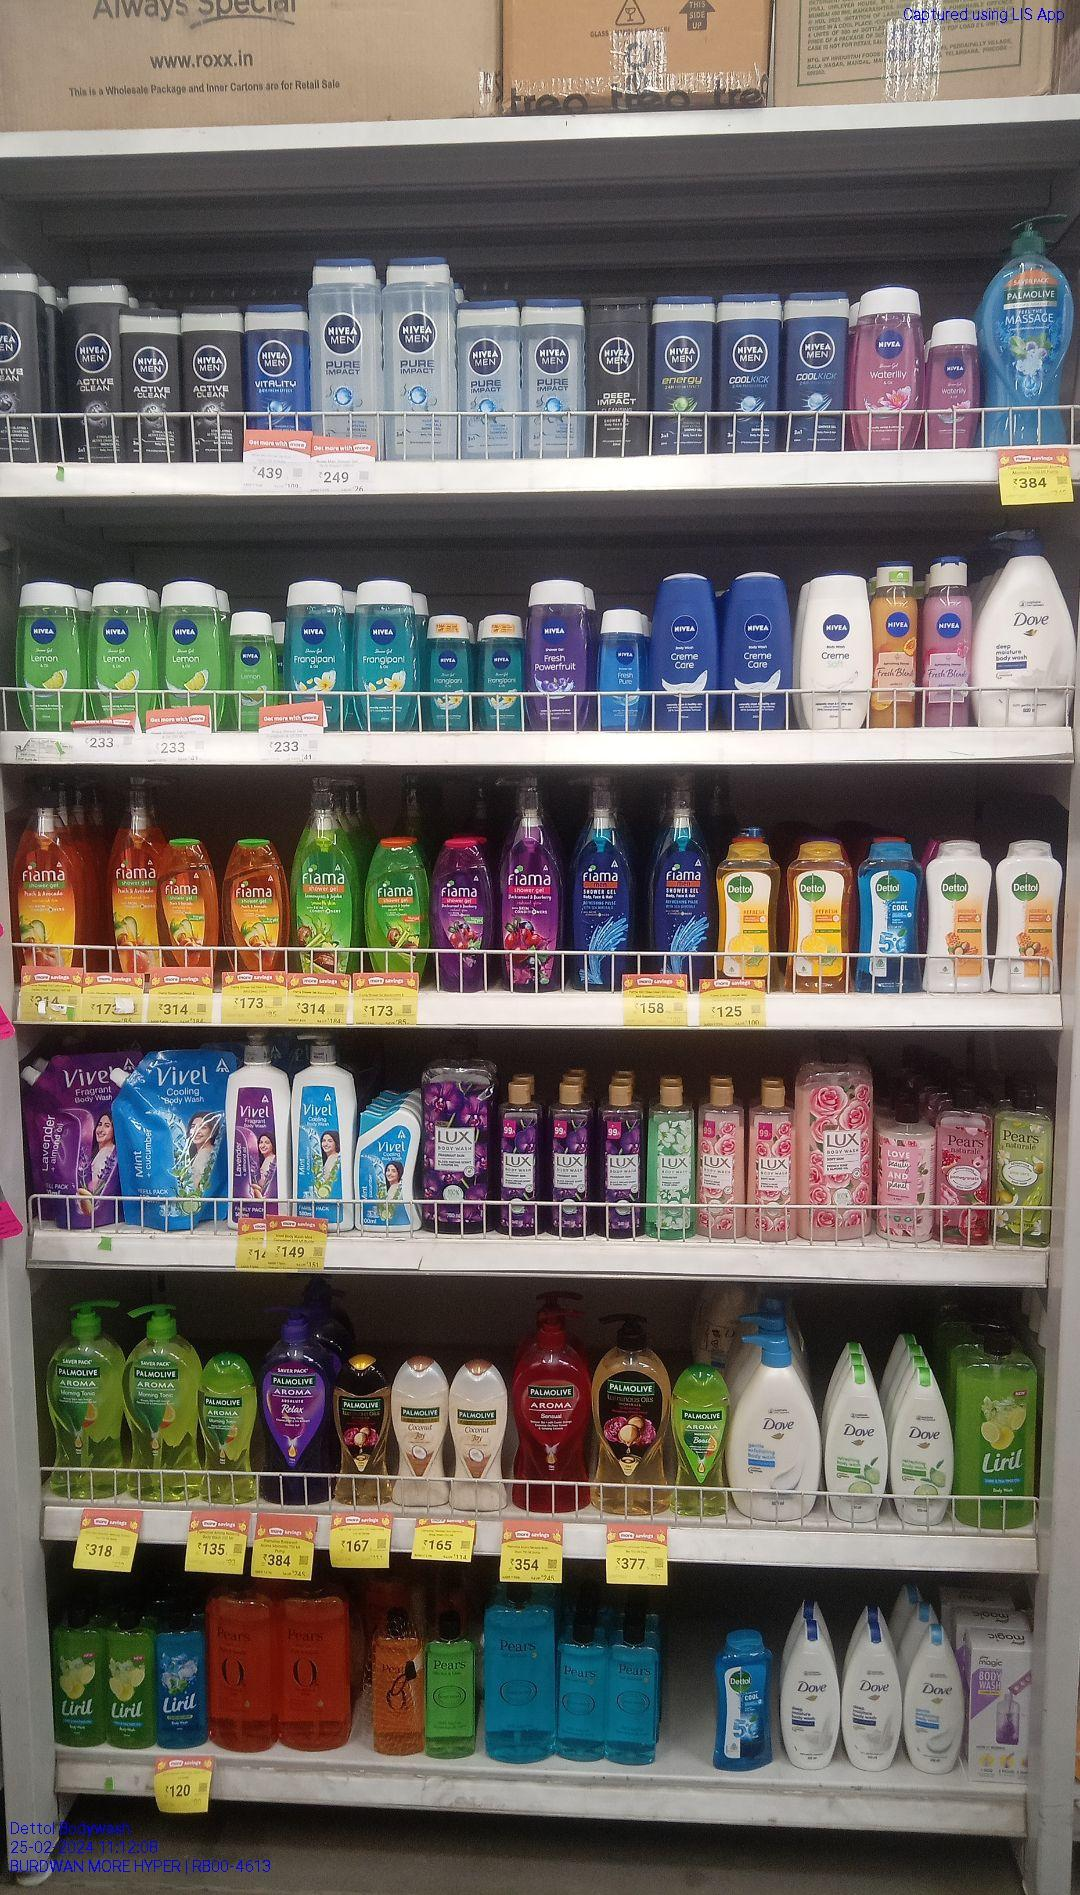Dettol_Bodywash_Cool: (859, 842, 924, 992), (717, 1633, 773, 1773)
Dettol_Bodywash_Refresh: (786, 846, 852, 993), (716, 843, 779, 992)
Dettol_Nourish_Body_Wash_250ML: (928, 838, 988, 993), (998, 842, 1058, 990)
Dove_Deep_Moisture_Body_Wash_250ML: (778, 1623, 841, 1769), (842, 1618, 900, 1770)
Dove_Refreshing_Body_Wash_250ML: (824, 1364, 889, 1523), (894, 1372, 952, 1524)
Fiama_Shower_Gel_Lemongrass_and_Jojoba_250ML: (363, 841, 428, 989)
Fiama_Shower_Gel_Peach_and_Avocado_250ML: (225, 839, 290, 974), (160, 839, 216, 972)
Liril_Cooling_Mint_Body_Wash_250ML: (609, 1620, 661, 1766), (159, 1610, 208, 1748), (557, 1622, 605, 1760)
Liril_Lime_and_Tea_Tree_Oil_Body_Wash_250ML: (51, 1611, 105, 1747), (108, 1611, 154, 1747)
Lux_Black_Orchid_Scent_and_Juniper_Oil_Body_Wash_245ML: (600, 1082, 641, 1239), (502, 1082, 541, 1235), (549, 1084, 587, 1238)
Lux_Body_Wash_Skin_Detox_Freesia_Scent_and_Alove_Vera_245ML: (649, 1083, 696, 1236)
Nivea_Shower_Gel_Frangipani_and_Oil_250ML: (357, 579, 418, 729), (288, 579, 344, 729)
Nivea_Shower_Gel_Fresh_Powerfruit_250ML: (528, 580, 593, 728)
Nivea_Shower_Gel_Lemon_and_Oil_250ML: (88, 580, 152, 729), (17, 580, 77, 731), (163, 580, 221, 730)
Nivea_Shower_Gel_Waterlily_and_Oil_250ML: (856, 284, 921, 449)
Palmolive_Aroma_Morning_Tonic_Shower_Gel_250ML: (199, 1355, 256, 1503), (673, 1367, 726, 1516)
Palmolive_Coconut_Joy_Exfoliating_Body_Wash_250ML: (452, 1363, 506, 1511), (394, 1360, 449, 1507)
Palmolive_Luminous_Oils_Invigorating_Macadamia_Oil_With_Peony_250ML: (336, 1363, 394, 1505)
Pears_Naturale_Aloe_Vera_Body_Wash_250ML: (995, 1085, 1050, 1246)
Pears_Pure_Glycerin_and_Lemon_Flower_Extracts_Body_Wash_250ML: (425, 1620, 478, 1760)
